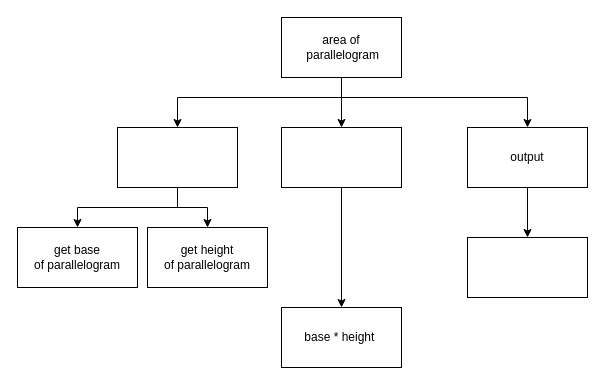
This 605x385 diagram has some shape labels left out. Here are the shapes that lost their labels. From the top down, the centre of each, then its label:
(177,157): input
(341,157): process
(527,267): show area value
